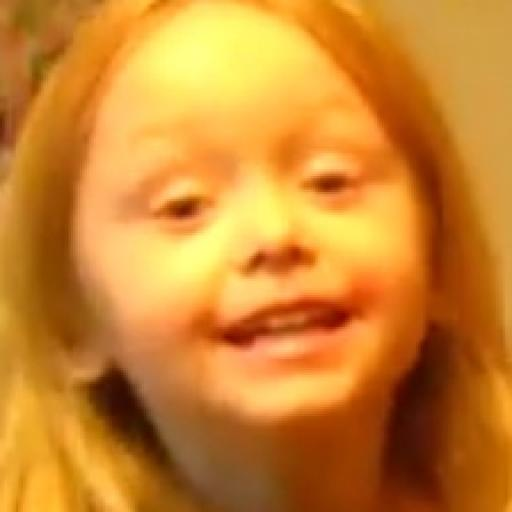Autism: (89, 18, 510, 512)
